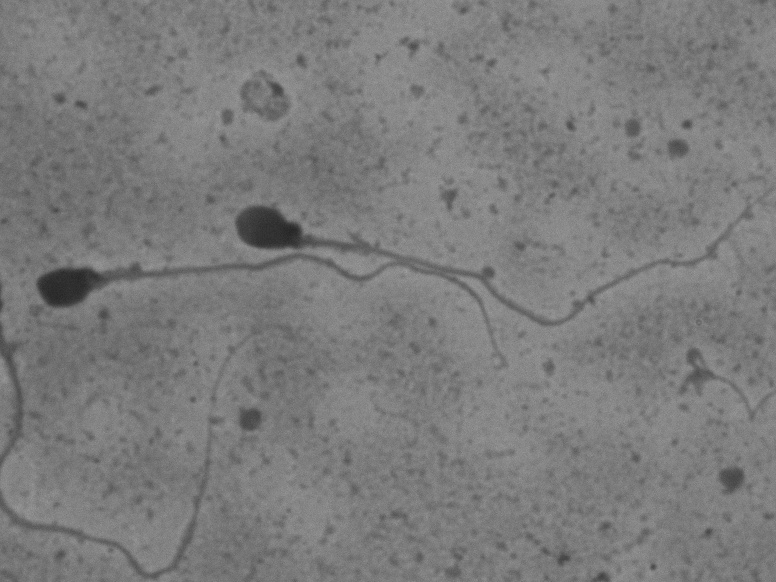Abnormal: (222, 164, 738, 321), (27, 247, 517, 386)
